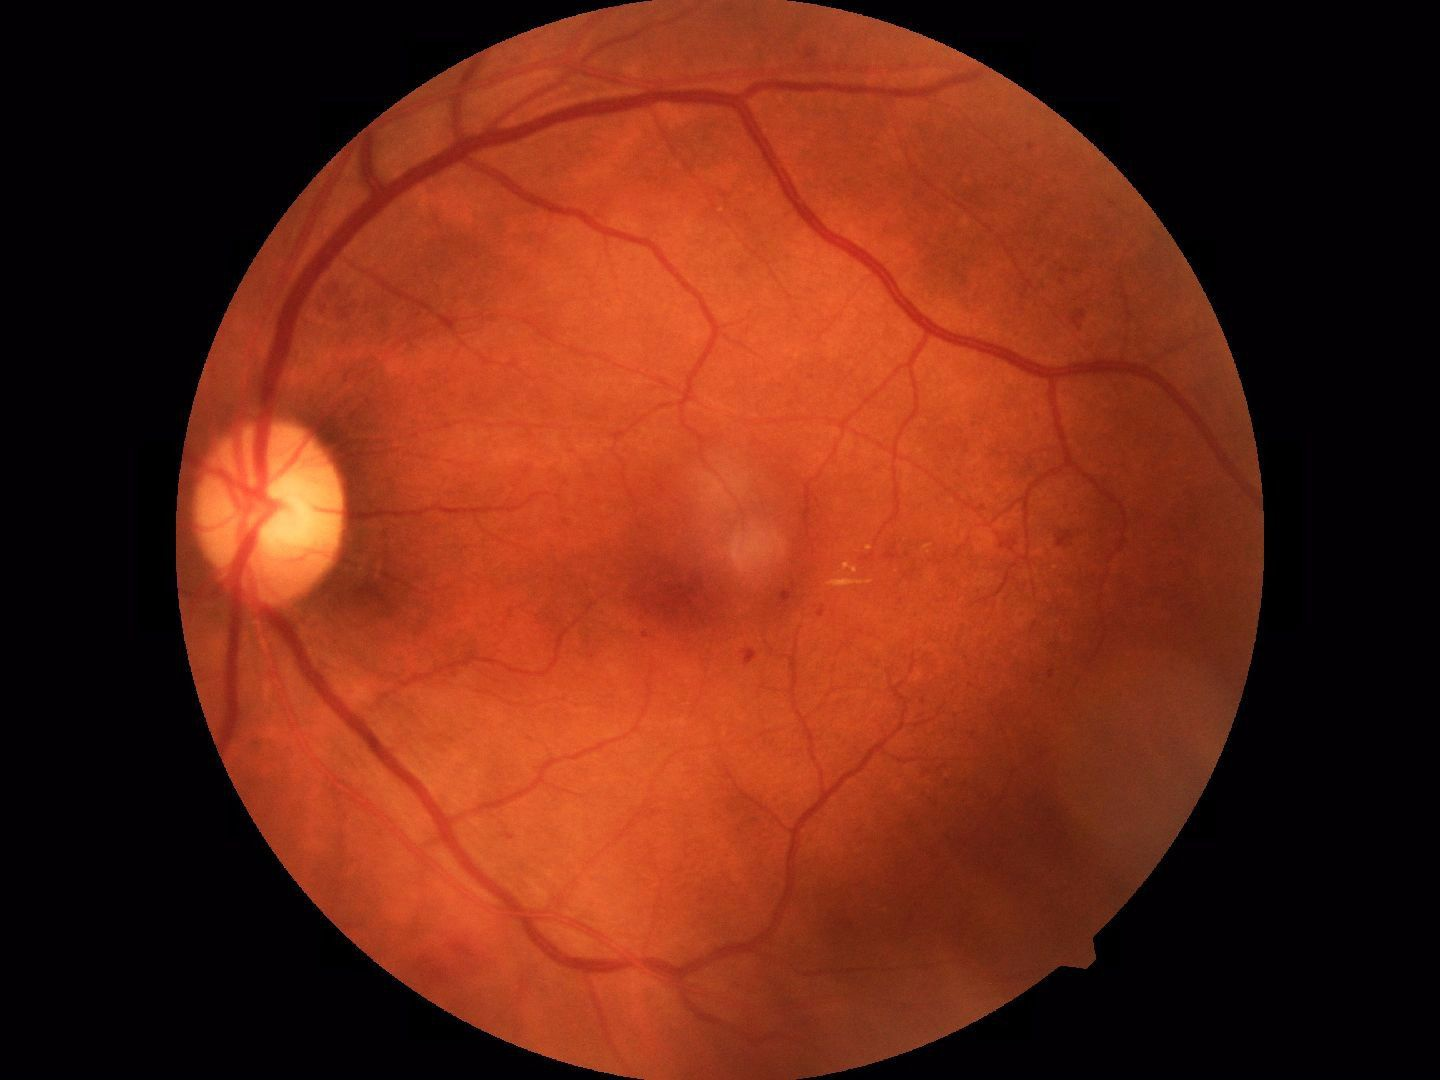Arterioles: (671, 317, 1058, 512), (525, 710, 917, 886)
Hemorrhages: (525, 521, 751, 651)
Optic-Disc: (192, 416, 346, 610)
Venules: (251, 244, 347, 362)
